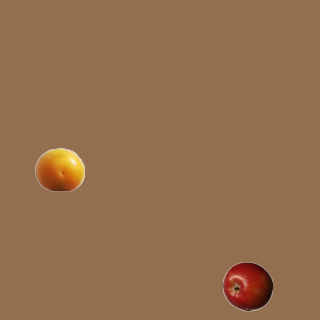Apple Braeburn: (222, 261, 272, 311)
Cherry Wax Yellow: (34, 144, 84, 194)
